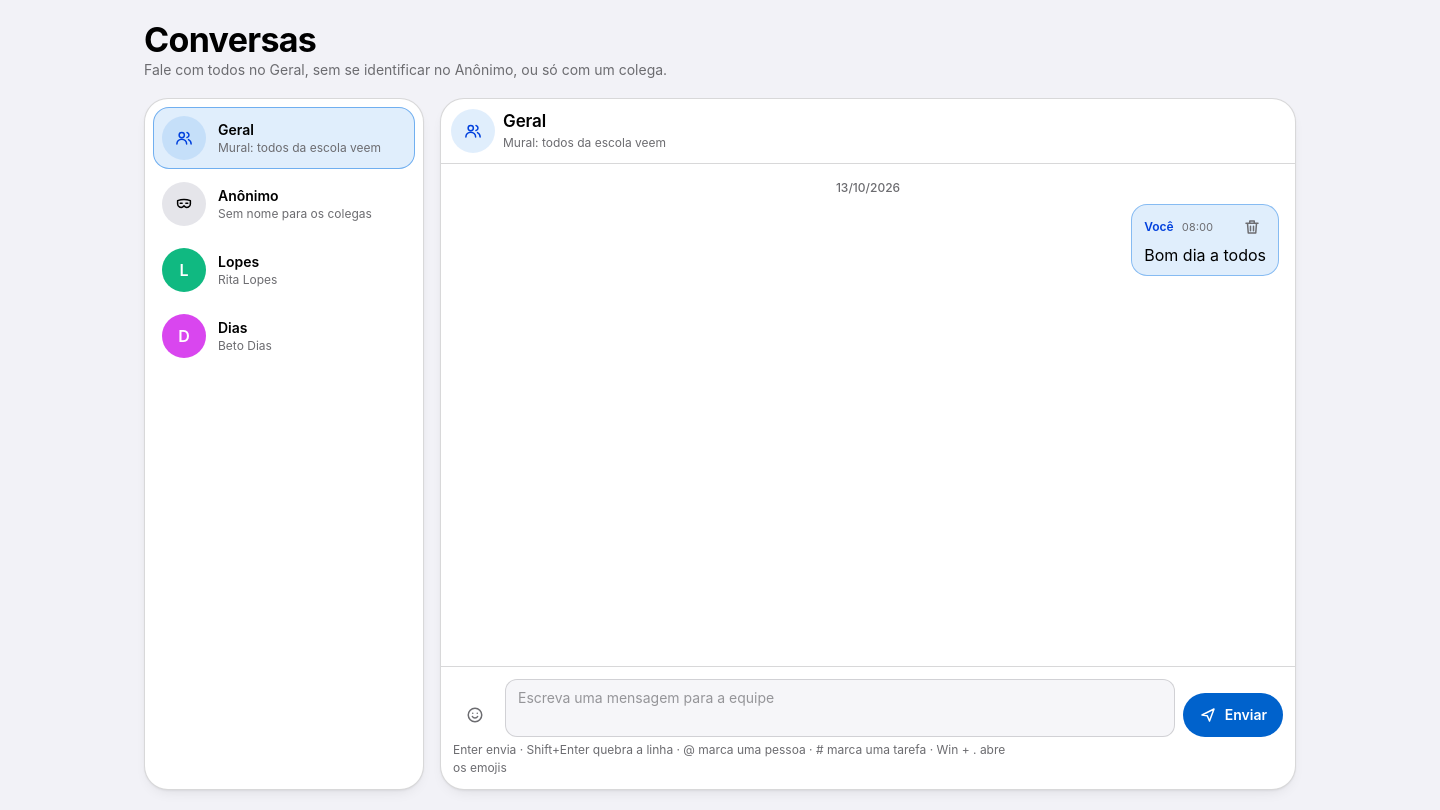
conversas: marcações, perfil e emojis (tela) › o botão de emojis coloca o emoji no texto
This screenshot has width=1440, height=810.
Expected: the navigation bar named "Conversas" is shown, [144,98,424,790]
Step 1. Click the button "Anônimo Sem nome para os colegas" → {"x": 284, "y": 204}, box [153,173,415,235]
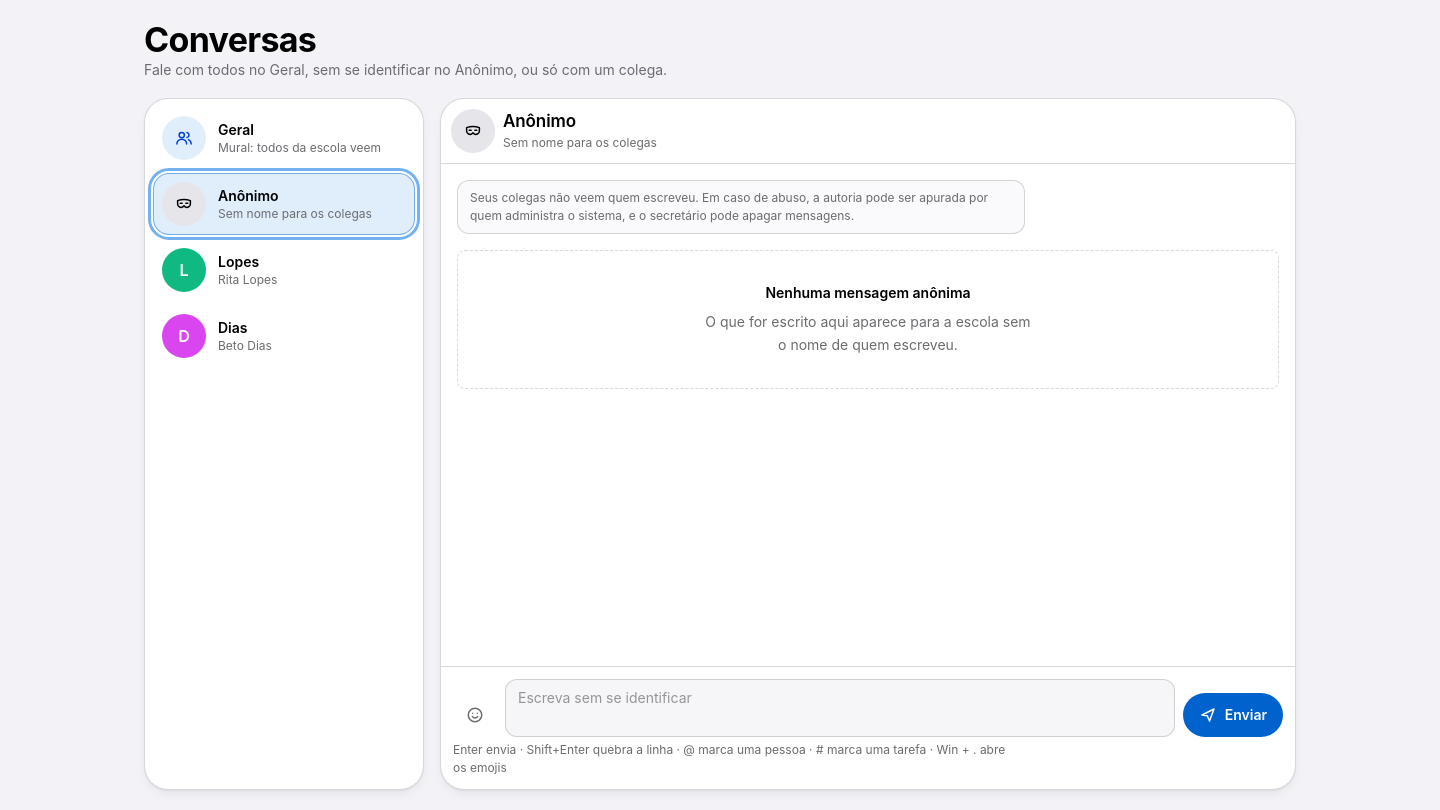
Step 2. Type "Valeu " into the text box named "Escrever mensagem" → {"x": 840, "y": 708}, box [505,679,1175,737]
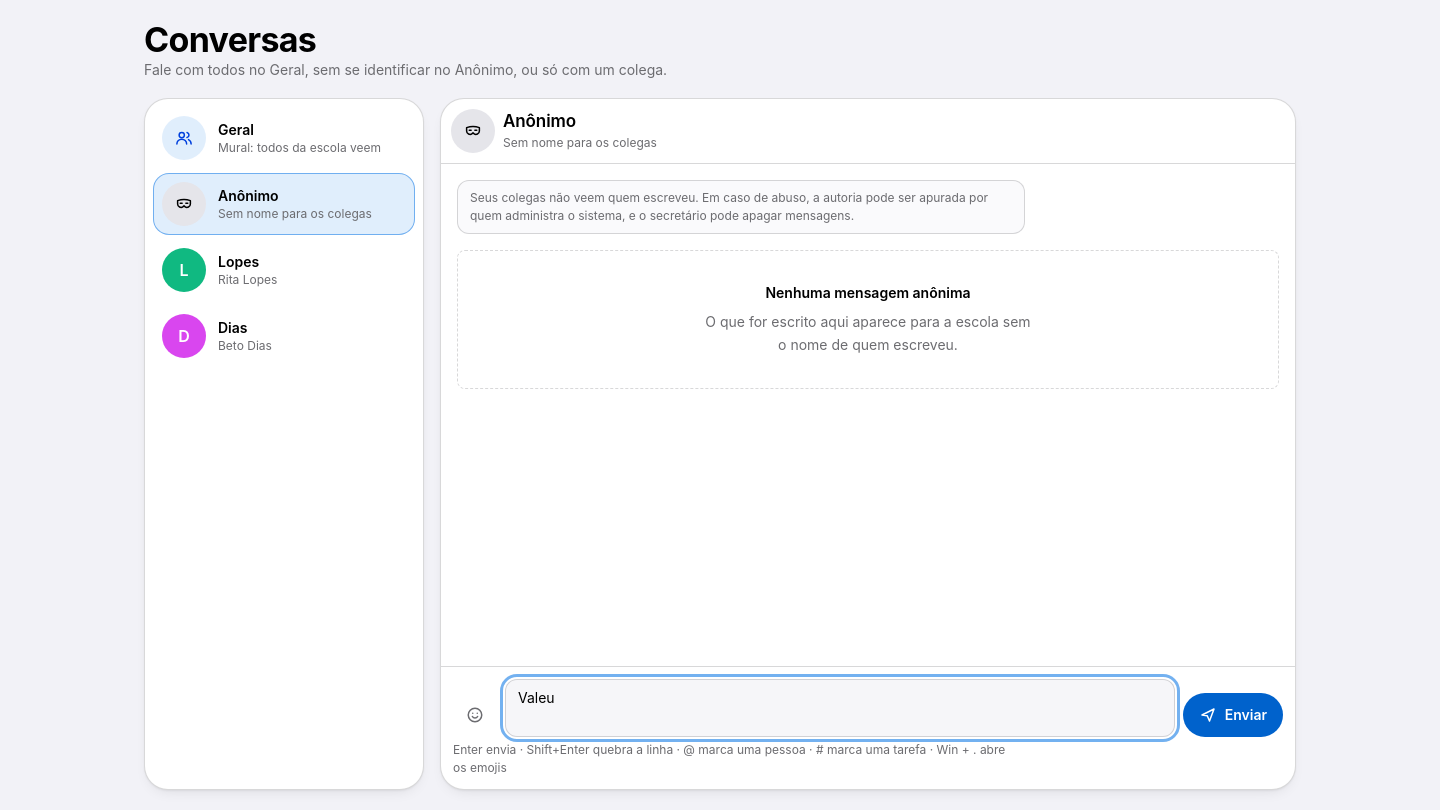
Step 3. Click the button named "Inserir emoji" → {"x": 475, "y": 715}, box [453,693,497,737]
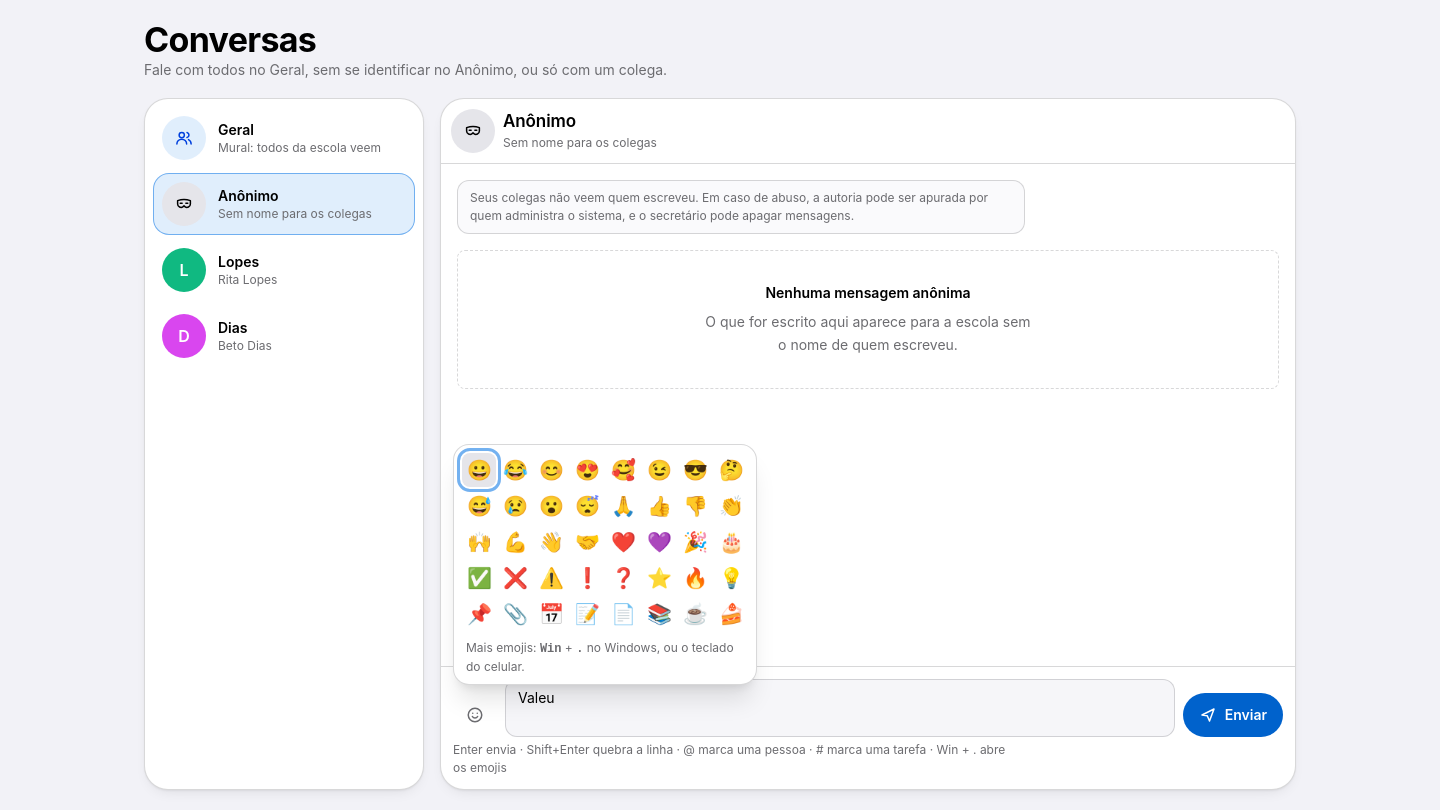
Step 4. Click the button named "Emoji 👍" → {"x": 659, "y": 506}, box [642,489,676,523]
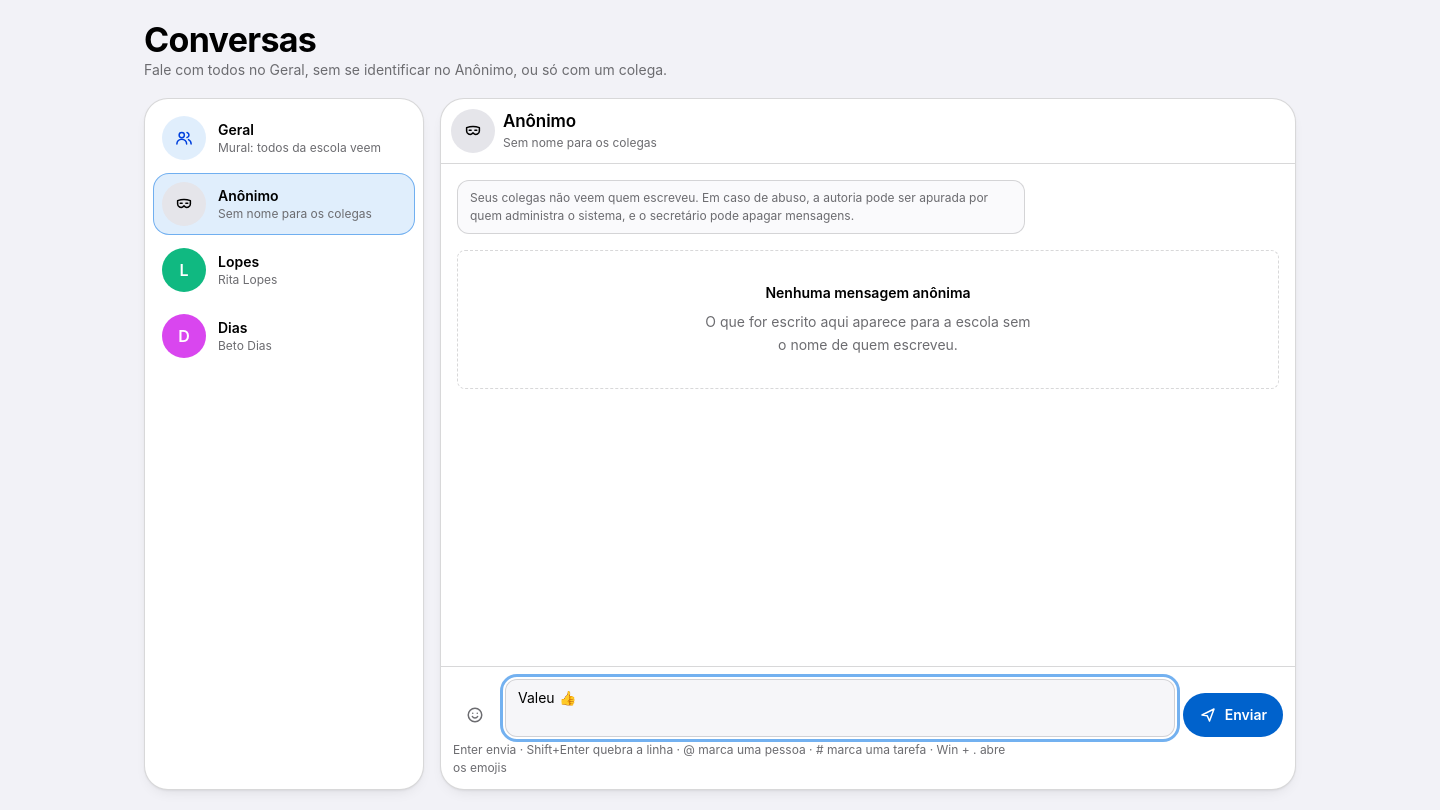
Result: the text box named "Escrever mensagem" holds "Valeu 👍" at [505,679,1175,737]
Result: the element "Emojis" is gone
